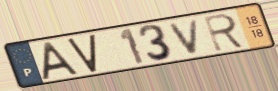1: (119, 26, 147, 67)
3: (137, 23, 175, 63)
A: (40, 40, 82, 82)
R: (201, 12, 249, 54)
V: (65, 32, 99, 74), (167, 17, 201, 56)
